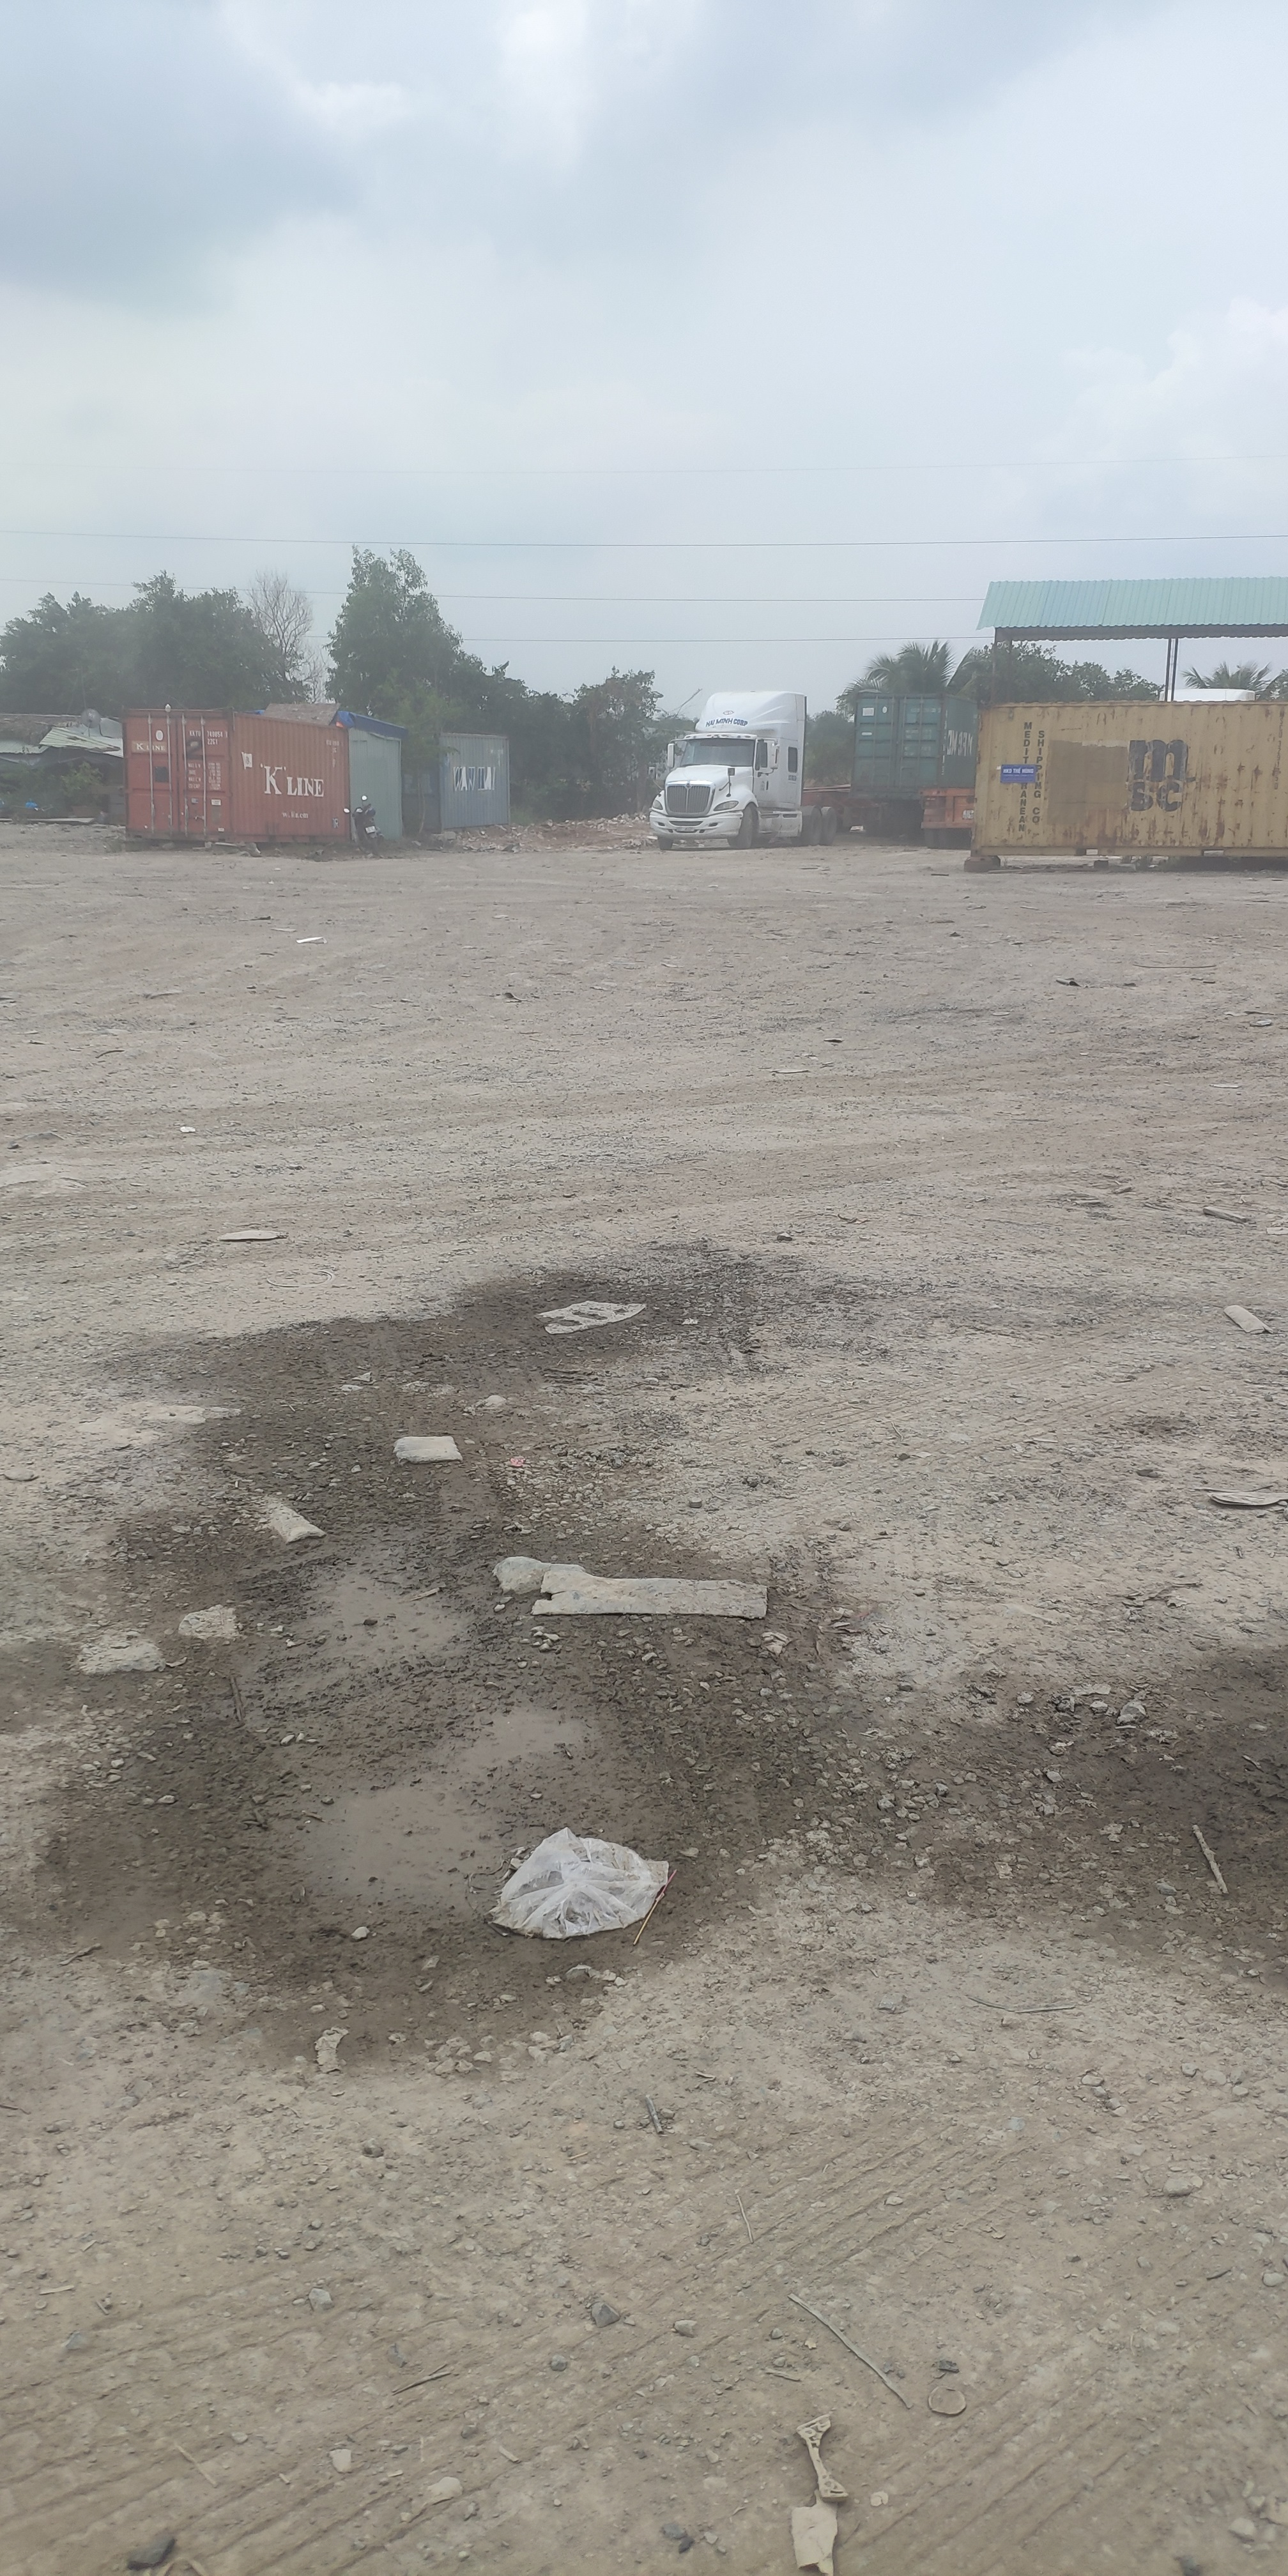hole: (222, 1488, 619, 1932), (1084, 1640, 1288, 1943)
